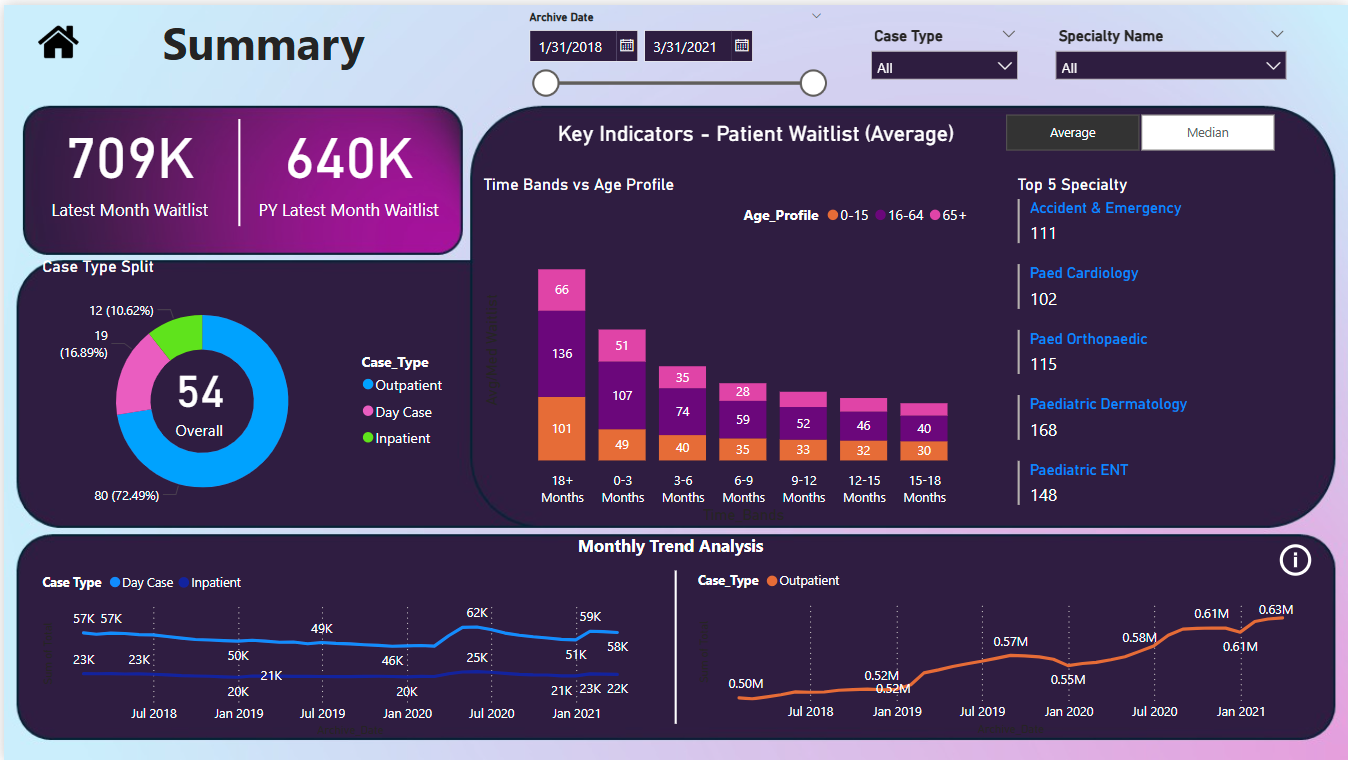

This screenshot's page, from the dashboard's own definition file:
{"tool":"powerbi","page":{"name":"Summary","canvas":[1280,720],"ordinal":1},"visuals":[{"type":"cardVisual","fields":{"Data":["All_Data.Latest_Month_Waitlist"]},"box":[16,96,208,128],"z":0},{"type":"cardVisual","fields":{"Data":["All_Data.PY Latest Month Waitlist"]},"box":[224,96,208,128],"z":1000},{"type":"slicer","fields":{"Values":["Calculation Method.Calc Method"]},"box":[928.3,96.7,305,48.3],"z":2000},{"type":"donutChart","title":"Case Type Split","fields":{"Category":["All_Data.Case_Type"],"Y":["All_Data.Avg/Med Wailist"]},"box":[32,240,400,256],"z":3000},{"type":"columnChart","title":"Time Bands vs Age Profile","fields":{"Y":["All_Data.Avg/Med Wailist"],"Category":["All_Data.Time_Bands"],"Series":["All_Data.Age_Profile"]},"box":[452,162,476,336],"z":4000},{"type":"multiRowCard","title":"Top 5 Specialty","fields":{"Values":["All_Data.Specialty_Name","All_Data.Avg/Med Wailist"]},"box":[960,162,272,352],"z":5000},{"type":"card","fields":{"Values":["All_Data.NoDataLeft"]},"box":[173.3,578.3,300,60],"z":6000},{"type":"lineChart","fields":{"Y":["Sum(All_Data.Total)"],"Series":["All_Data.Case_Type"],"Category":["All_Data.Archive_Date"]},"box":[31.7,530,581.7,171.7],"z":7000},{"type":"card","fields":{"Values":["All_Data.NoDataRight"]},"box":[825,585,300,60],"z":8000},{"type":"lineChart","fields":{"Category":["All_Data.Archive_Date"],"Y":["Sum(All_Data.Total)"],"Series":["All_Data.Case_Type"]},"box":[656.4,529.1,590.9,171.8],"z":9000},{"type":"slicer","fields":{"Values":["All_Data.Archive_Date"]},"box":[487.1,0,304.3,128.6],"z":10000},{"type":"slicer","fields":{"Values":["All_Data.Case_Type"]},"box":[815.7,15.7,160,64.3],"z":11000},{"type":"slicer","fields":{"Values":["All_Data.Specialty_Name"]},"box":[992,16,240,64],"z":12000},{"type":"textbox","box":[145,1.7,240,80],"z":13000},{"type":"shape","box":[207.1,108.6,34.3,102.9],"z":14000},{"type":"card","fields":{"Values":["All_Data.Avg/Med Waitlist"]},"box":[130,321.7,111.7,103.3],"z":15000},{"type":"textbox","box":[541.2,498.8,197.5,31.2],"z":16000},{"type":"shape","box":[622.5,538.8,33.8,146.2],"z":17000},{"type":"card","fields":{"Values":["All_Data.Dynamic Title"]},"box":[451.7,81.7,528.3,80],"z":18000},{"type":"actionButton","box":[1210,508.3,45,40],"z":19000},{"type":"actionButton","box":[61.8,11.8,40,38.8],"z":19001},{"type":"image","box":[27.8,7.6,48.8,56.5],"z":19002},{"type":"actionButton","box":[39.6,26.5,26.5,18.2],"z":19003}]}

Visuals, with their boxes in screenshot pixels (x1, y1, x2, y2), scaled from the page's 1280x720 canvas onto the 1348x760 screenshot:
cardVisual - All_Data.Latest_Month_Waitlist: Rect(17, 101, 236, 236)
cardVisual - All_Data.PY Latest Month Waitlist: Rect(236, 101, 455, 236)
slicer - Calculation Method.Calc Method: Rect(978, 102, 1299, 153)
"Case Type Split" donutChart: Rect(34, 253, 455, 524)
"Time Bands vs Age Profile" columnChart: Rect(476, 171, 977, 526)
"Top 5 Specialty" multiRowCard: Rect(1011, 171, 1297, 543)
card - All_Data.NoDataLeft: Rect(183, 610, 498, 674)
lineChart - Sum(All_Data.Total) x All_Data.Case_Type: Rect(33, 559, 646, 741)
card - All_Data.NoDataRight: Rect(869, 618, 1185, 681)
lineChart - All_Data.Archive_Date x Sum(All_Data.Total): Rect(691, 558, 1314, 740)
slicer - All_Data.Archive_Date: Rect(513, 0, 833, 136)
slicer - All_Data.Case_Type: Rect(859, 17, 1028, 84)
slicer - All_Data.Specialty_Name: Rect(1045, 17, 1297, 84)
textbox: Rect(153, 2, 405, 86)
shape: Rect(218, 115, 254, 223)
card - All_Data.Avg/Med Waitlist: Rect(137, 340, 255, 449)
textbox: Rect(570, 527, 778, 559)
shape: Rect(656, 569, 691, 723)
card - All_Data.Dynamic Title: Rect(476, 86, 1032, 171)
actionButton: Rect(1274, 537, 1322, 579)
actionButton: Rect(65, 12, 107, 53)
image: Rect(29, 8, 81, 68)
actionButton: Rect(42, 28, 70, 47)
